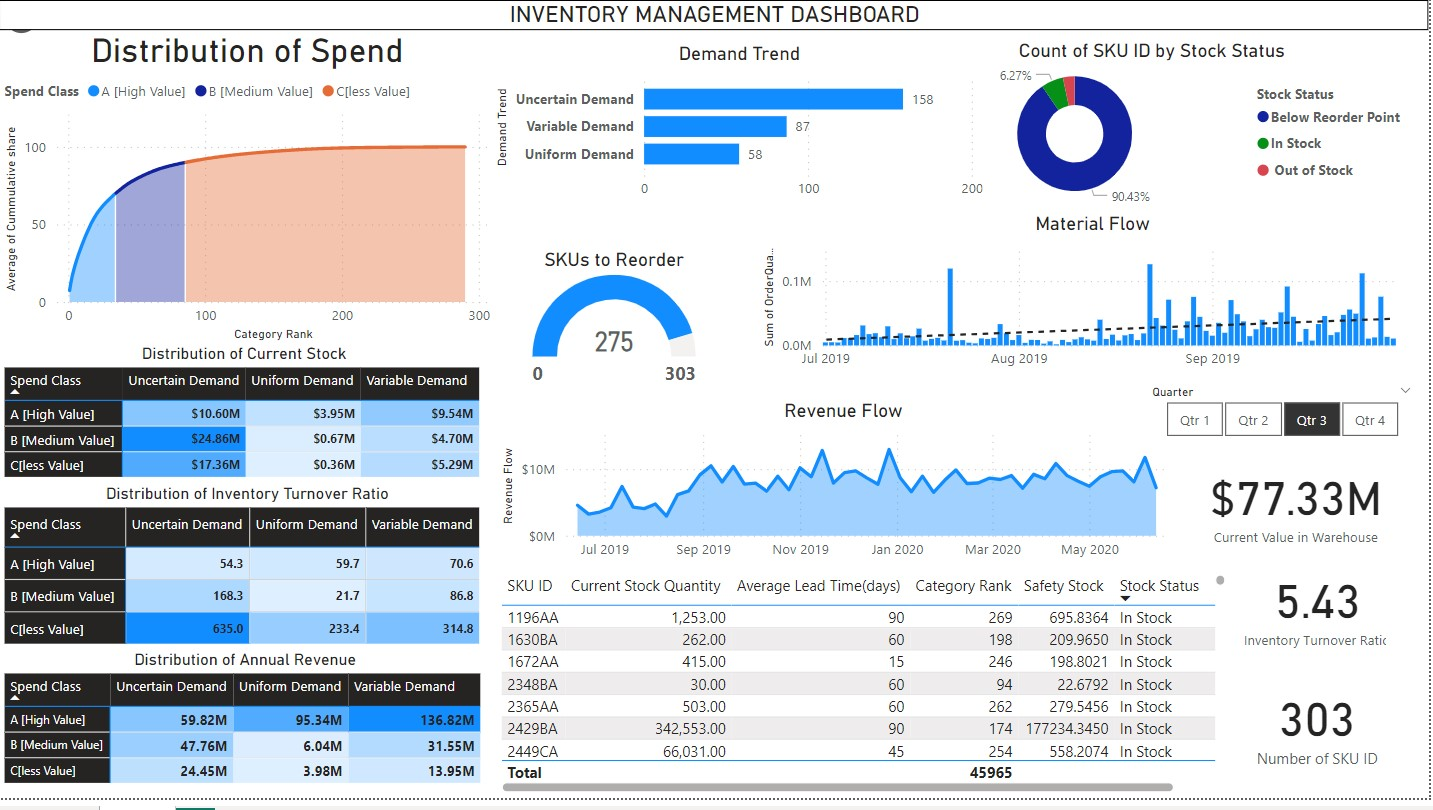

The page's visual inventory and layout, read from the dashboard file:
{"tool":"powerbi","page":{"name":"Page 1","canvas":[1280,720],"ordinal":0},"visuals":[{"type":"stackedAreaChart","title":"Distribution of Spend","fields":{"Category":["Stock.Category Rank"],"Y":["Avg(Stock.Cummulative share)"],"Series":["Stock.Category"]},"box":[0,32.8,444.7,281.7],"z":0},{"type":"pivotTable","title":"Distribution of Annual Revenue","fields":{"Rows":["Stock.Category"],"Columns":["Stock.Demand Type"],"Values":["Sum(Stock.Annual Revenue)"]},"box":[0,587.4,440.8,132.1],"z":1000},{"type":"pivotTable","title":"Distribution of Current Stock","fields":{"Rows":["Stock.Category"],"Columns":["Stock.Demand Type"],"Values":["Sum(Stock.Value in Warehouse)"]},"box":[0,313.5,438.9,125.4],"z":2000},{"type":"card","fields":{"Values":["Avg(Stock.Inventory Turnover Ratio)"]},"box":[1083.4,499.7,193.5,96.3],"z":3000},{"type":"textbox","box":[1241.7,548.3,38.3,128.3],"z":4000},{"type":"card","fields":{"Values":["CountNonNull(Stock.SKUID)"]},"box":[1118.2,612.4,123.9,81.9],"z":5000},{"type":"card","fields":{"Values":["Sum(Stock.Value in Warehouse)"]},"box":[1061.9,410.6,198.7,89.1],"z":6000},{"type":"pivotTable","title":"Distribution of Inventory Turnover Ratio","fields":{"Rows":["Stock.Spend Class"],"Columns":["Stock.Demand Trend"],"Values":["Sum(Stock.Inventory Turnover Ratio)"]},"box":[0,438.9,444.7,151.4],"z":7000},{"type":"tableEx","fields":{"Values":["Stock.SKUID","Stock.CurrentStockQuantity","Stock.AverageLeadTime(days)","Sum(Stock.Category Rank)","Stock.Safety Stock","Stock.Stock Status"]},"box":[444.4,515.1,659.5,204.8],"z":8000},{"type":"gauge","title":"SKUs to Reorder","fields":{"Y":["Stock.SKUs to Reorder"],"MaxValue":["CountNonNull(Stock.SKUID)"]},"box":[460.8,227.3,179.2,133.1],"z":9000},{"type":"donutChart","title":"Count of SKU ID by Stock Status","fields":{"Category":["Stock.Stock Status"],"Y":["CountNonNull(Stock.SKUID)"]},"box":[795.6,39.9,474.1,155.6],"z":10000},{"type":"actionButton","box":[0,0,100,40],"z":11000},{"type":"stackedAreaChart","title":"Revenue Flow","fields":{"Category":["Weekly Demand Report.Week Table.Variation.Date Hierarchy.Year","Weekly Demand Report.Week Table.Variation.Date Hierarchy.Quarter","Weekly Demand Report.Week Table.Variation.Date Hierarchy.Month","Weekly Demand Report.Week Table.Variation.Date Hierarchy.Day"],"Y":["Sum(Weekly Demand Report.Sales Amount)"]},"box":[444.7,362.7,622.2,152.4],"z":12000},{"type":"textbox","title":"INVENTORY MANAGEMENT DASHBOARD","box":[0,5.8,1280,27],"z":13000},{"type":"barChart","title":"Demand Trend","fields":{"Category":["Stock.Demand Trend"],"Y":["CountNonNull(Stock.SKUID)"]},"box":[439.3,43,446.5,149.5],"z":14000},{"type":"lineClusteredColumnComboChart","title":"Material Flow","fields":{"Category":["Past Orders.OrderDate"],"Y":["Sum(Past Orders.OrderQuantity)"]},"box":[678.9,195.6,601.1,149.5],"z":15000},{"type":"slicer","fields":{"Values":["Past Orders.OrderDate.Variation.Date Hierarchy.Quarter"]},"box":[1020,344.8,257,58.2],"z":15001}]}

Visuals, with their boxes in screenshot pixels (x1, y1, x2, y2), scaled from the page's 1280x720 canvas onto the 1433x810 screenshot:
"Distribution of Spend" stackedAreaChart: 0, 37, 498, 354
"Distribution of Annual Revenue" pivotTable: 0, 661, 493, 809
"Distribution of Current Stock" pivotTable: 0, 353, 491, 494
card - Avg(Stock.Inventory Turnover Ratio): 1213, 562, 1430, 670
textbox: 1390, 617, 1432, 761
card - CountNonNull(Stock.SKUID): 1252, 689, 1391, 781
card - Sum(Stock.Value in Warehouse): 1189, 462, 1411, 562
"Distribution of Inventory Turnover Ratio" pivotTable: 0, 494, 498, 664
tableEx - Stock.SKUID x Stock.CurrentStockQuantity: 498, 579, 1236, 809
"SKUs to Reorder" gauge: 516, 256, 716, 405
"Count of SKU ID by Stock Status" donutChart: 891, 45, 1421, 220
actionButton: 0, 0, 112, 45
"Revenue Flow" stackedAreaChart: 498, 408, 1194, 579
"INVENTORY MANAGEMENT DASHBOARD" textbox: 0, 7, 1432, 37
"Demand Trend" barChart: 492, 48, 992, 217
"Material Flow" lineClusteredColumnComboChart: 760, 220, 1432, 388
slicer - Past Orders.OrderDate.Variation.Date Hierarchy.Quarter: 1142, 388, 1430, 453
